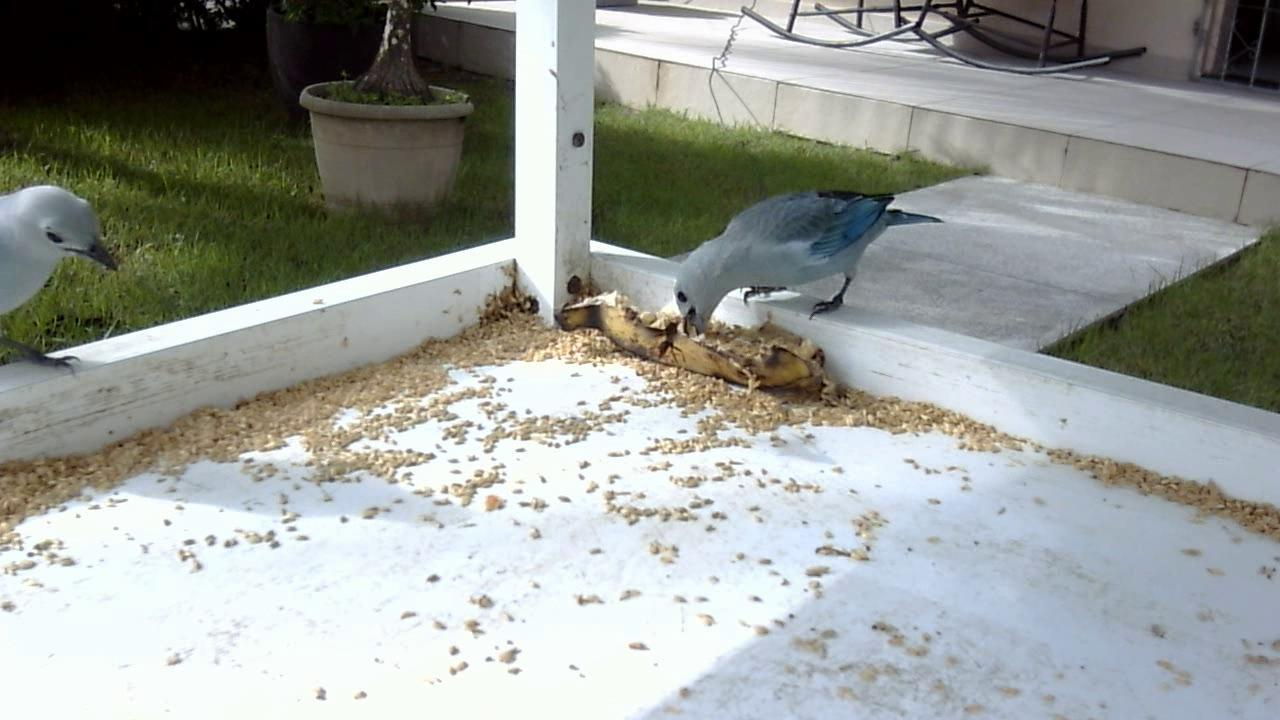sanhaco_da_amazonia: (657, 170, 956, 348), (1, 178, 118, 379)
